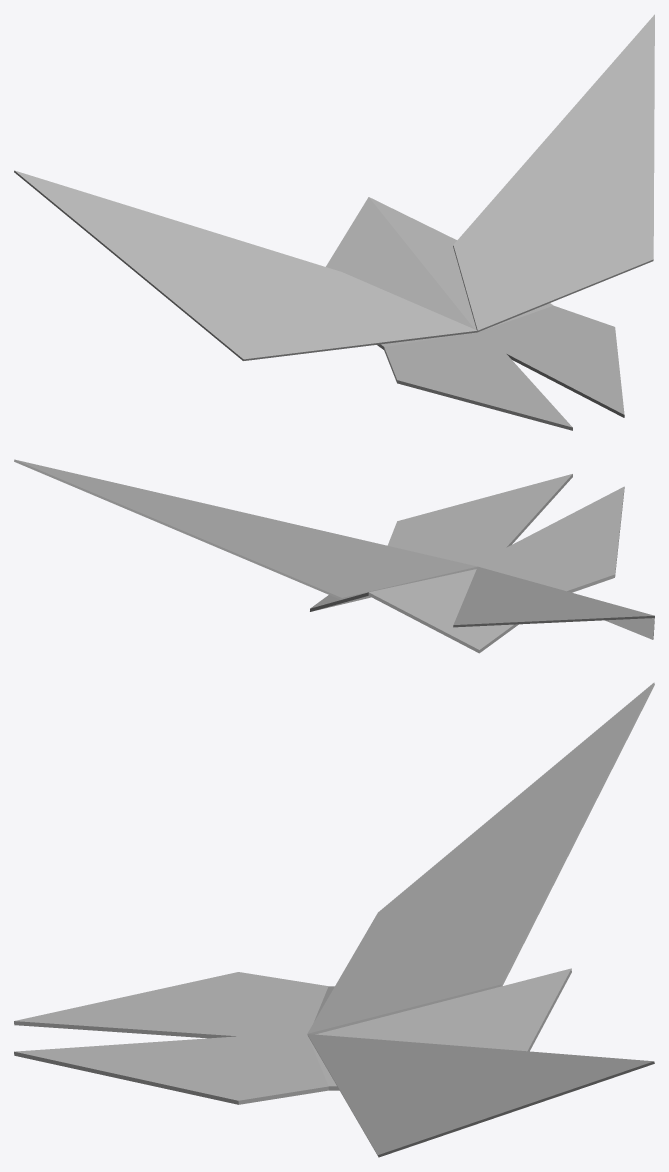
The model's file is Paper Butterfly.fbx.
3 renders of one model, top to bottom at view 1: azimuth 30°, elevation 25°; view 2: azimuth 150°, elevation 25°; view 3: azimuth 270°, elevation 25°, orthographic. The views are drawn at different scales.
Visible parts, largest first — view 1: Paper Butterfly; view 2: Paper Butterfly; view 3: Paper Butterfly.
Part boxes in pixels (<box>): Paper Butterfly: <box>14,14,654,430</box>; Paper Butterfly: <box>14,459,654,653</box>; Paper Butterfly: <box>14,682,654,1157</box>.
Size of the model in its own units: 16.96 by 3.52 by 12.12.
